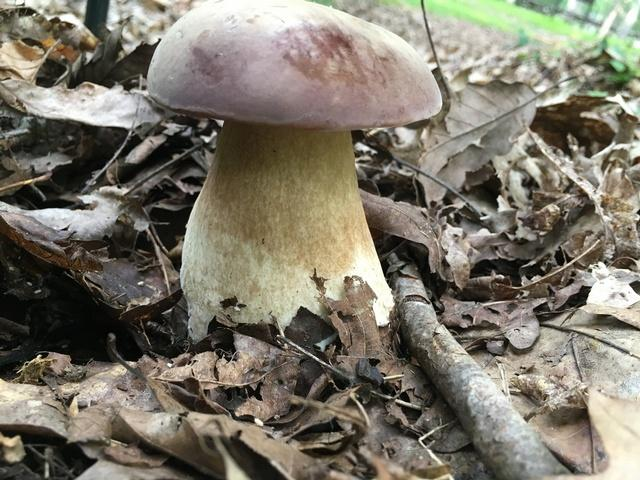poisonous_mushroom: (144, 0, 443, 346)
